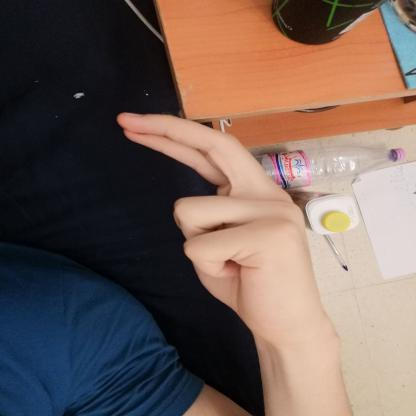ZAY: (104, 104, 332, 347)
